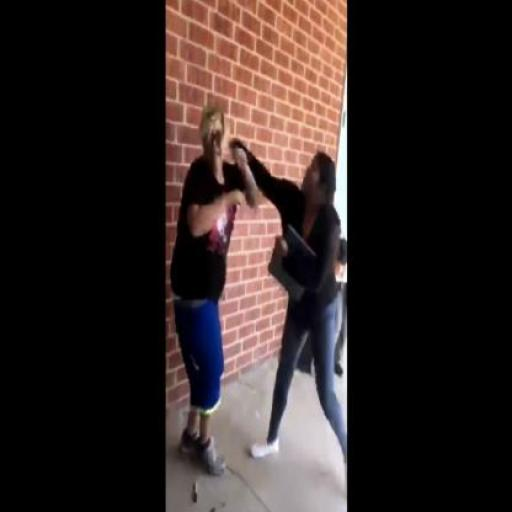Fighting: (168, 94, 346, 486)
